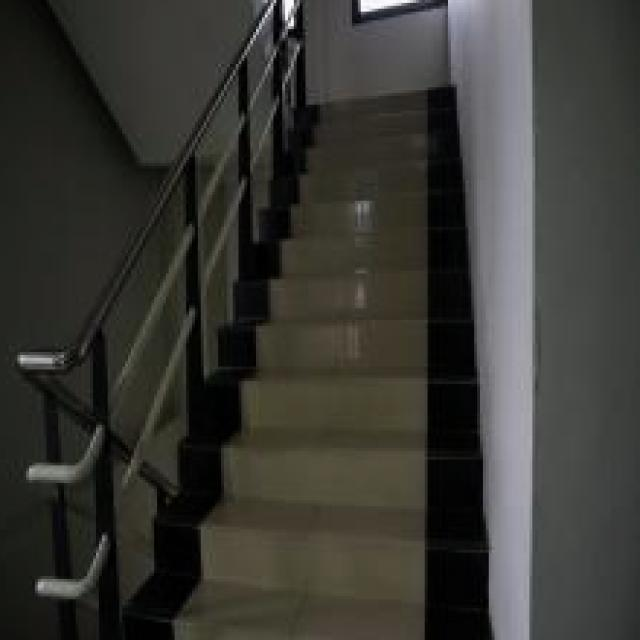upstair: (298, 71, 493, 640)
